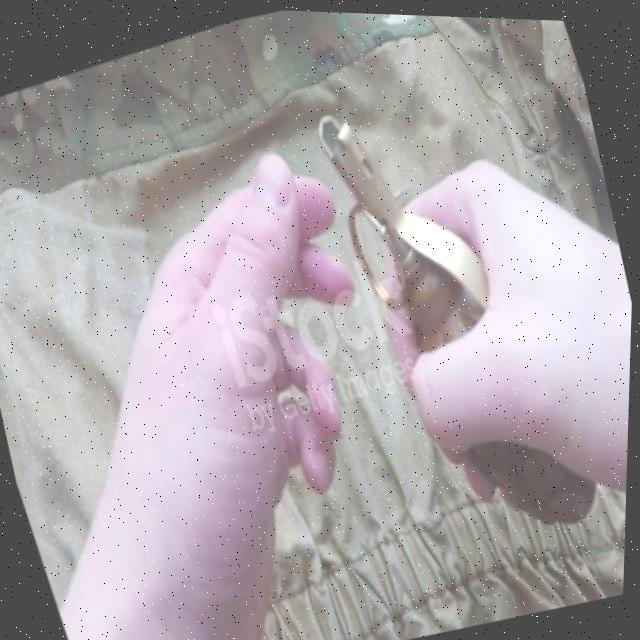grenade: (303, 52, 627, 572)
